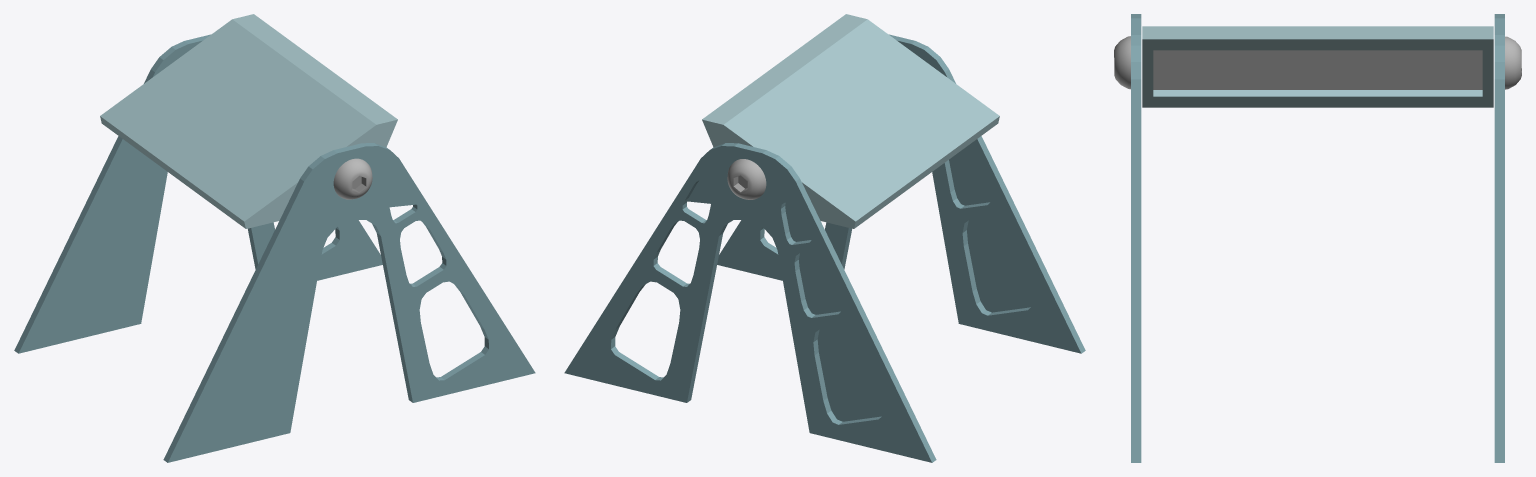
The model's file is GarageAreaEntryPanel.fbx.
3 views of the same model, side by side, from view 1: azimuth 30°, elevation 25°; view 2: azimuth 150°, elevation 25°; view 3: azimuth 270°, elevation 25° (orthographic). The views are drawn at different scales.
Visible parts, largest first — view 1: EntryAreaSupportBeam.001, AreaEntryScreen, EntryAreaSupportBeam, BigScrew; view 2: EntryAreaSupportBeam, AreaEntryScreen, EntryAreaSupportBeam.001, BigScrew.001; view 3: AreaEntryScreen, EntryAreaSupportBeam, EntryAreaSupportBeam.001, BigScrew.001, BigScrew.
Part boxes in pixels (x1,y1,x2,y2): EntryAreaSupportBeam.001: (163,143,535,462); AreaEntryScreen: (100,14,397,228); EntryAreaSupportBeam: (14,34,382,353); BigScrew: (333,158,372,199); EntryAreaSupportBeam: (564,143,936,462); AreaEntryScreen: (702,14,999,228); EntryAreaSupportBeam.001: (717,34,1085,353); BigScrew.001: (727,159,766,199); AreaEntryScreen: (1142,26,1493,107); EntryAreaSupportBeam: (1494,14,1504,462); EntryAreaSupportBeam.001: (1131,14,1141,462); BigScrew.001: (1505,36,1521,89); BigScrew: (1114,36,1130,89).
Bounding box in the file's own units: 55.78 × 43.91 × 40.94.
